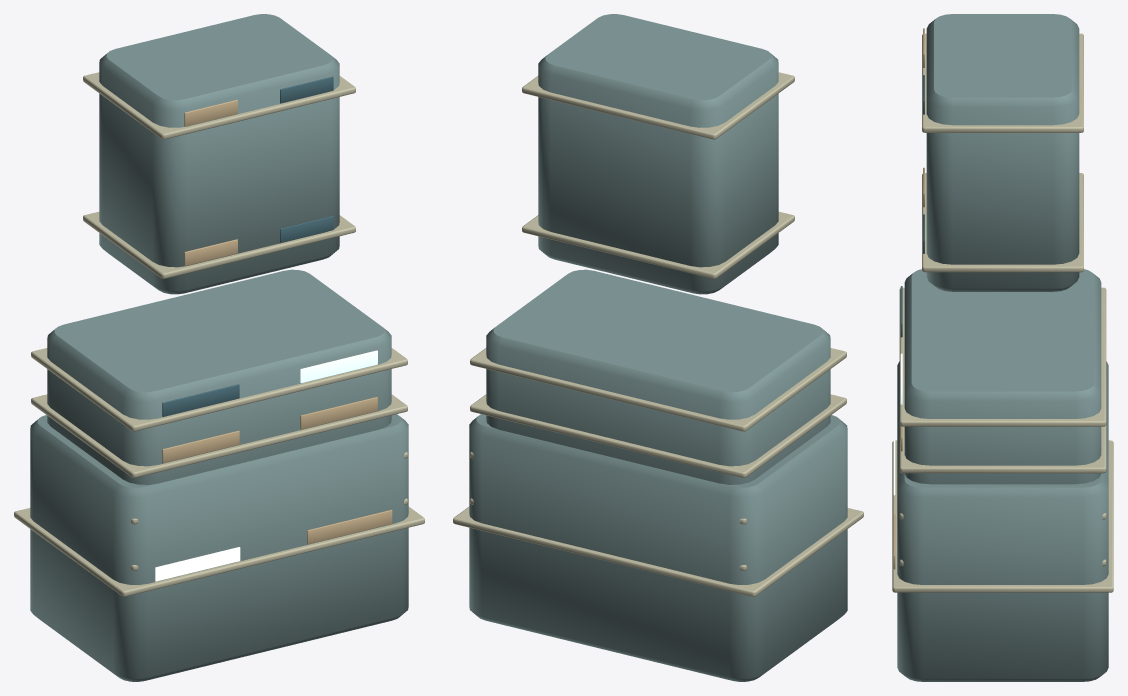
File: japan_skyline_2.glb
3 renders of one model, left to right at view 1: azimuth 30°, elevation 25°; view 2: azimuth 150°, elevation 25°; view 3: azimuth 270°, elevation 25°, orthographic.
Visible parts, largest first — view 1: JapanSkyline2; view 2: JapanSkyline2; view 3: JapanSkyline2.
Part boxes in pixels (box(x1,y1,x2,y2)): JapanSkyline2: box(14, 14, 424, 681); JapanSkyline2: box(453, 14, 863, 681); JapanSkyline2: box(892, 14, 1113, 681).
Bounding box in the file's own units: 4.32 × 7.6 × 2.73.
